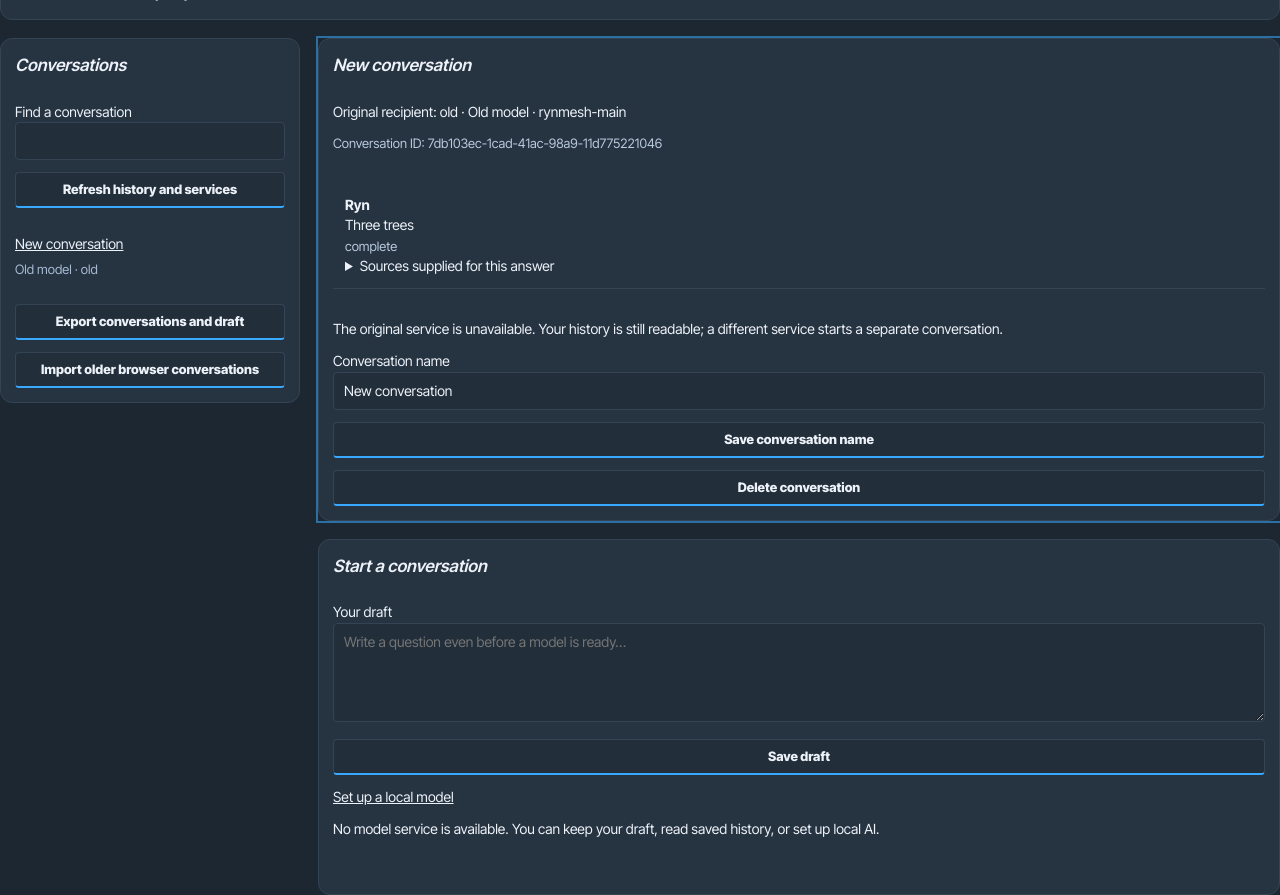
Test: keeps the supplied article excerpt recoverable in archived history without a model
(page scrolled)
expect the text "Three trees" is shown: met, box [345,216,414,233]
Click the heading "Sources supplied for this answer" at (457, 265), box [360,257,554,274]
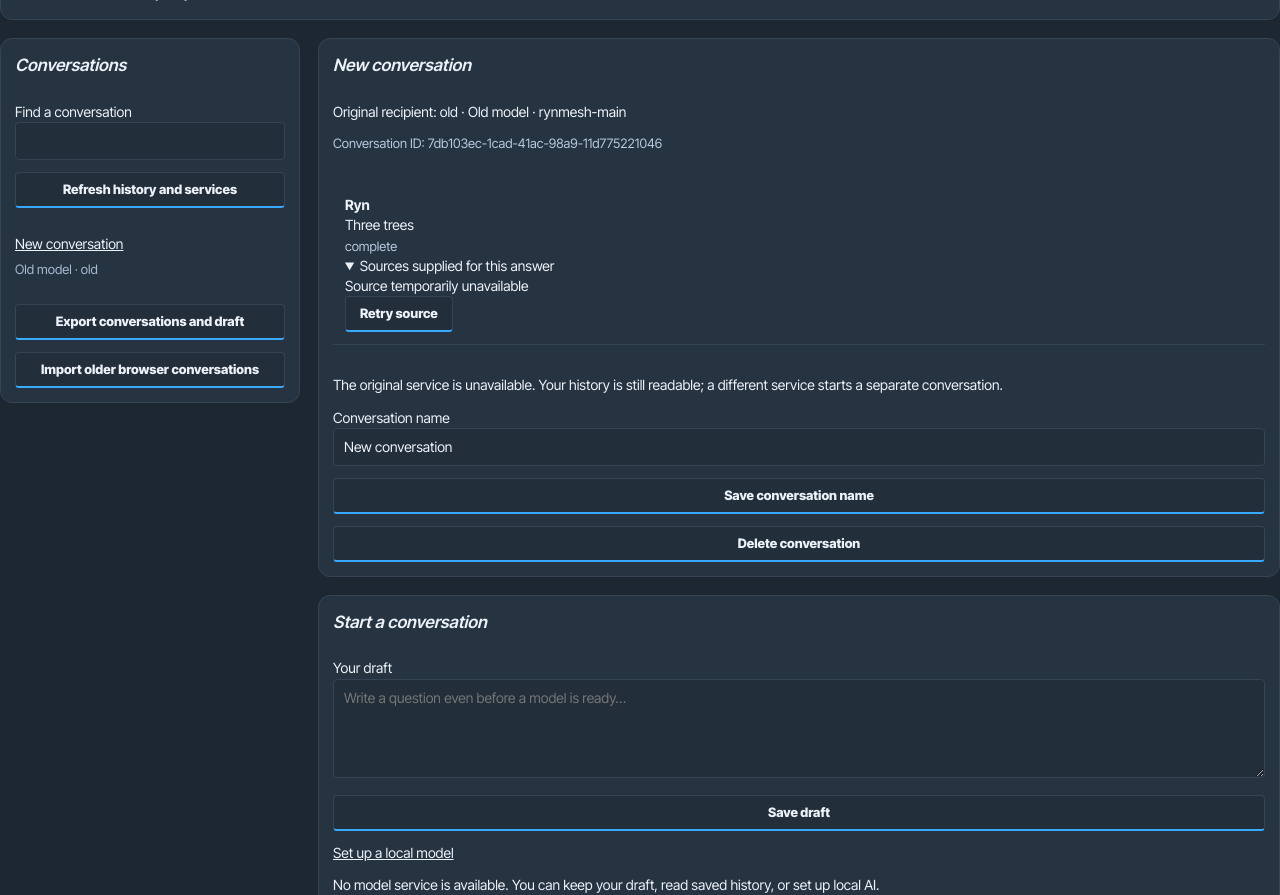
expect the message reads "Source temporarily unavailable": met, box [345,277,528,294]
Click the button "Retry source" at (399, 314), box [345,296,453,332]
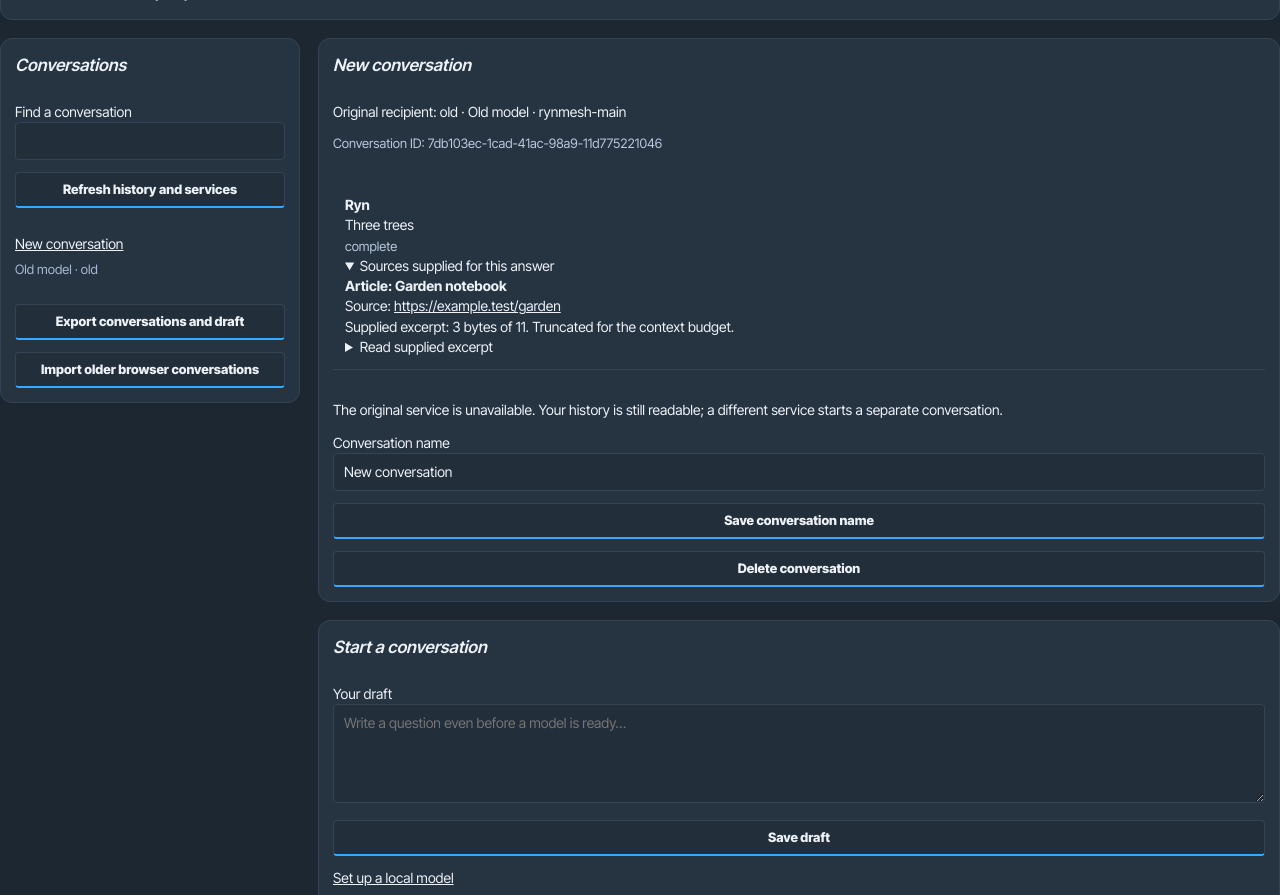
expect the text "Supplied excerpt: 3 bytes of 11" shows "Truncated for the context budget": met, box [345,318,734,335]
Click the heading "Read supplied excerpt" at (426, 346), box [360,338,493,355]
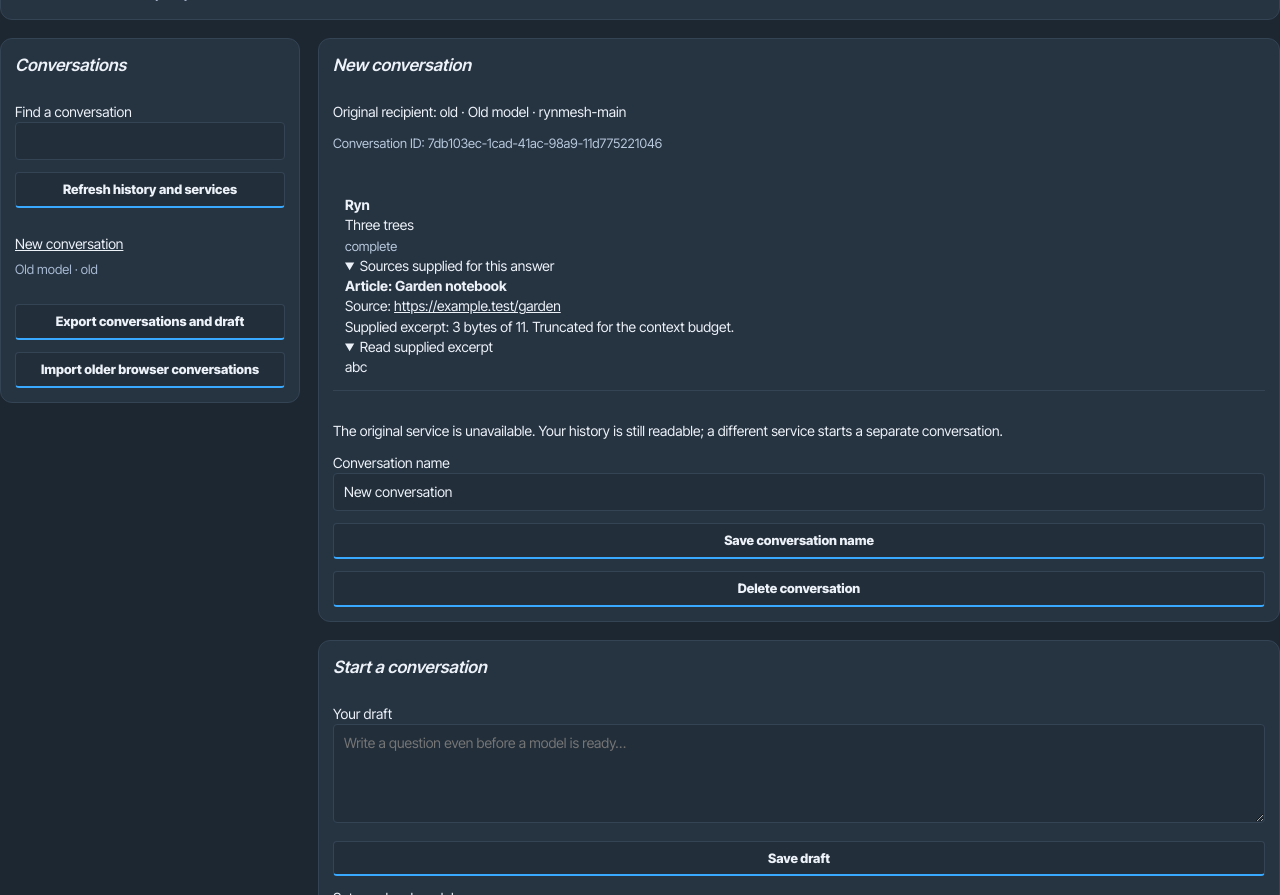
expect the text "abc" is shown: met, box [345,358,367,375]
